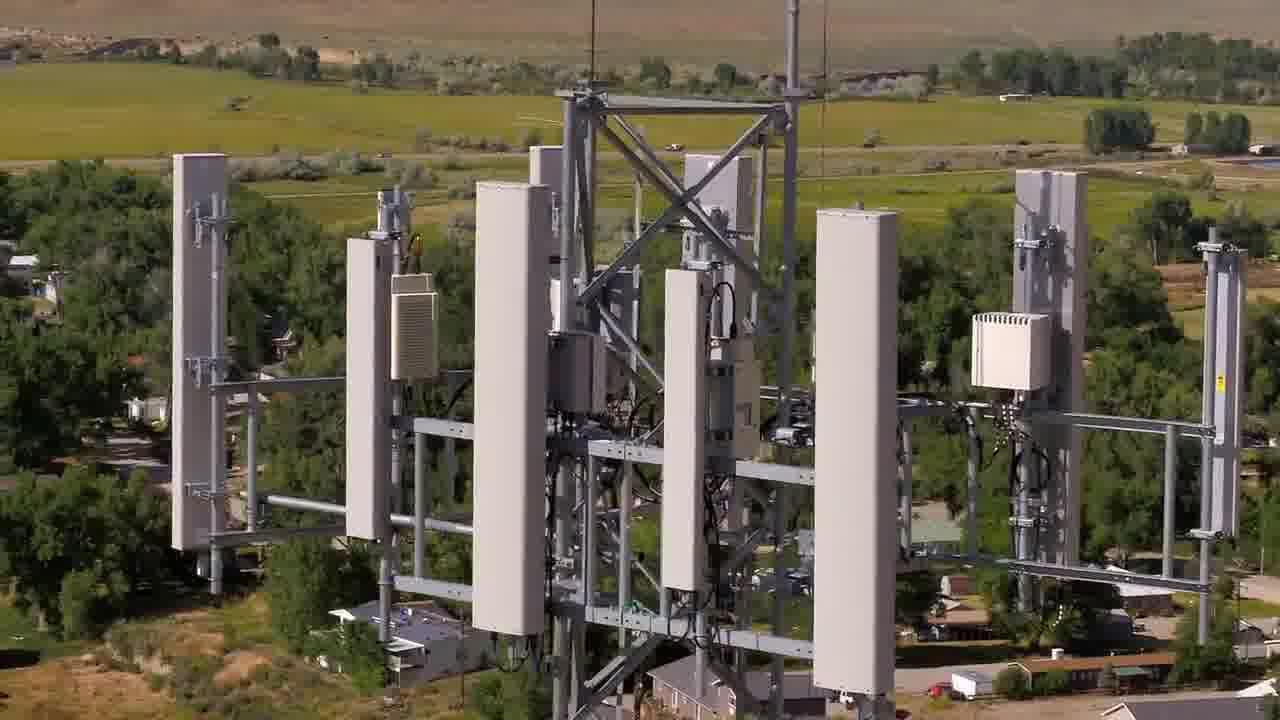antenna: (809, 198, 912, 704), (453, 176, 557, 660), (1005, 161, 1087, 586), (138, 141, 217, 562), (677, 135, 764, 504), (651, 255, 718, 612), (1193, 229, 1261, 570), (332, 229, 389, 547), (529, 141, 572, 379)
